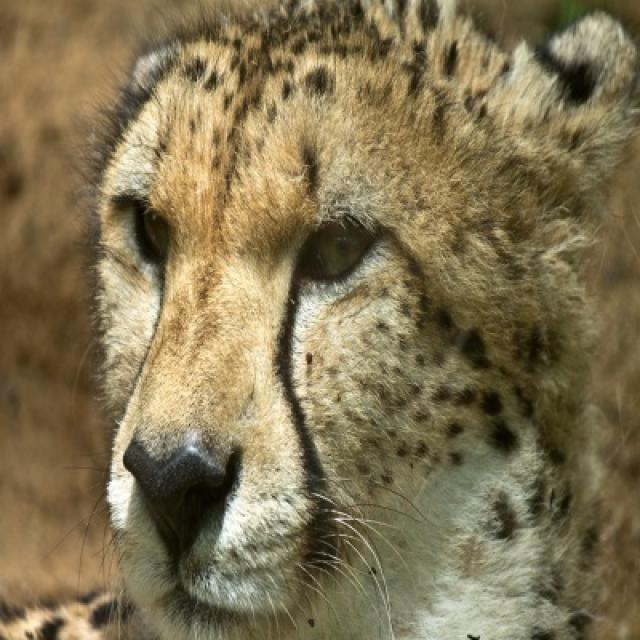Cheetah: (98, 0, 634, 635)
